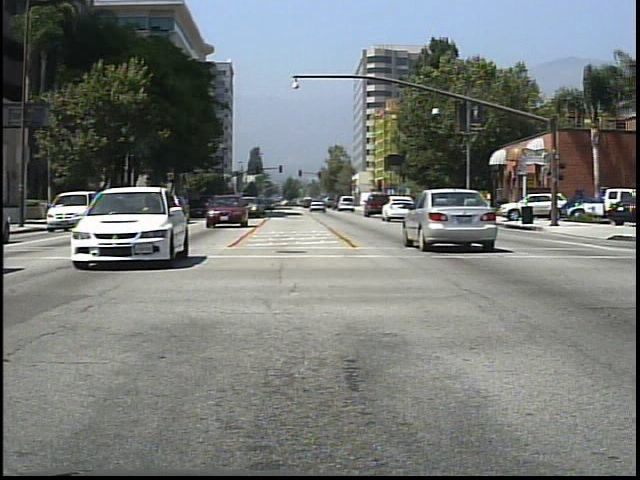person: (464, 190, 478, 222), (432, 190, 448, 217)
